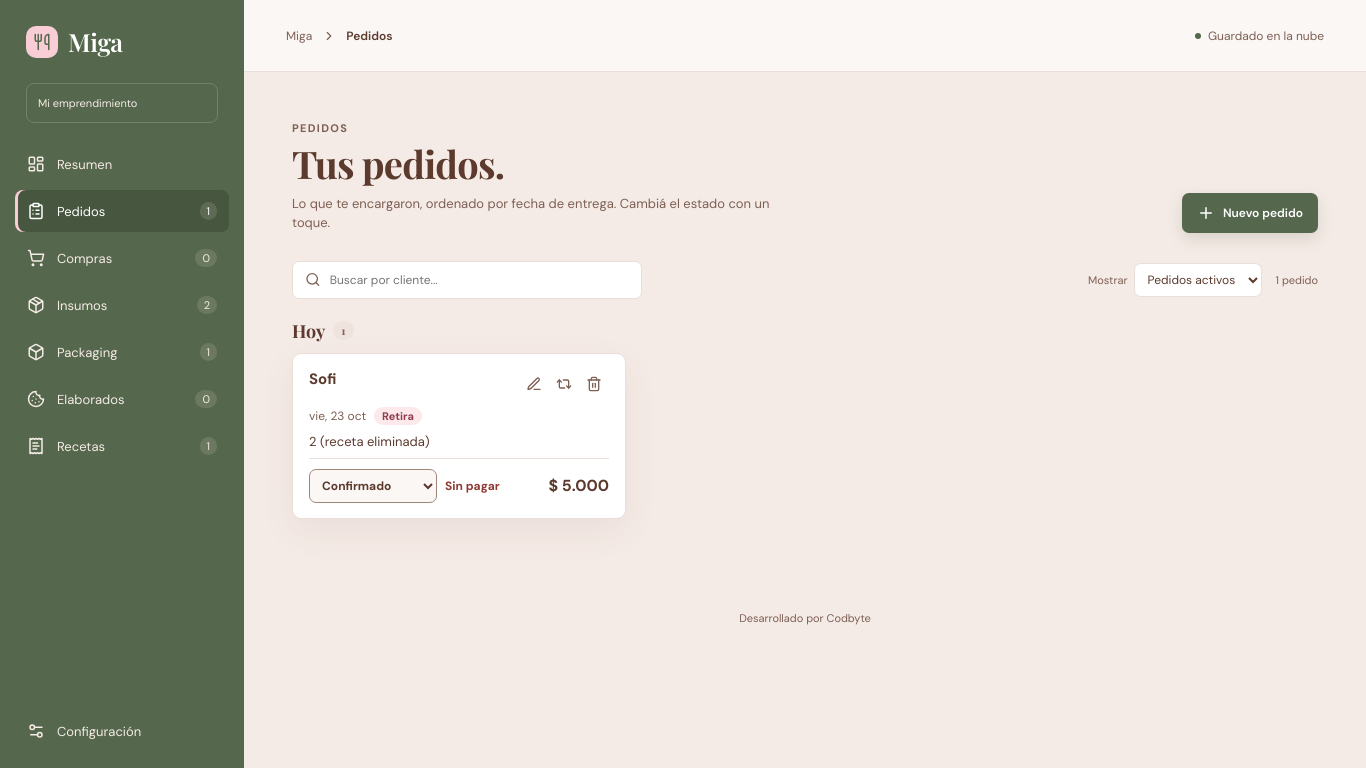
Test case: Order stock › cannot prepare an order with a deleted recipe
Select "En preparación" in the dropdown named "Estado del pedido de Sofi": [373, 486] box [309, 469, 437, 503]
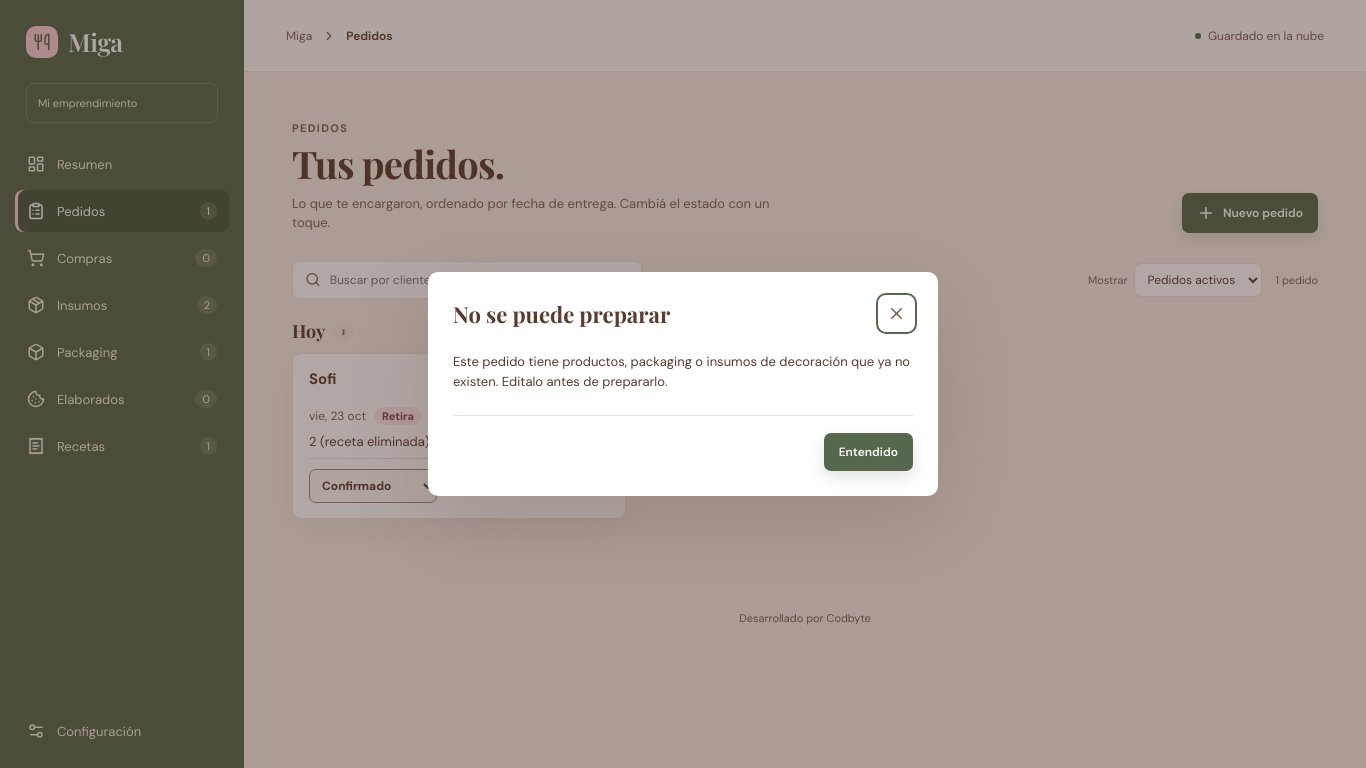
Check: the dialog shows "Este pedido tiene productos, packaging o insumos de decoración que ya no existen. Editalo antes de prepararlo.", box [453, 353, 910, 390]
